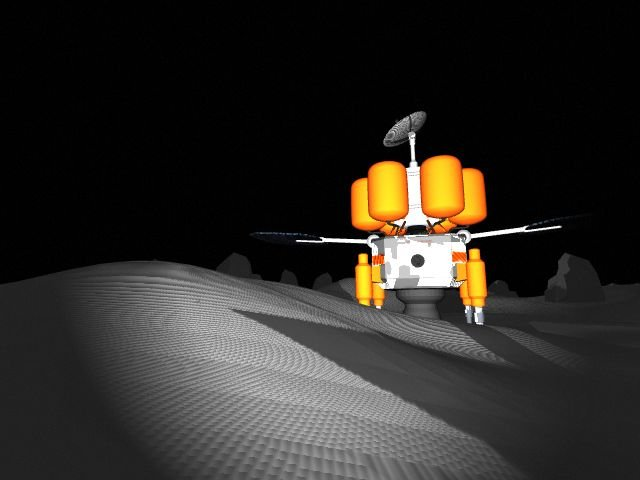homebase: (241, 109, 605, 329)
